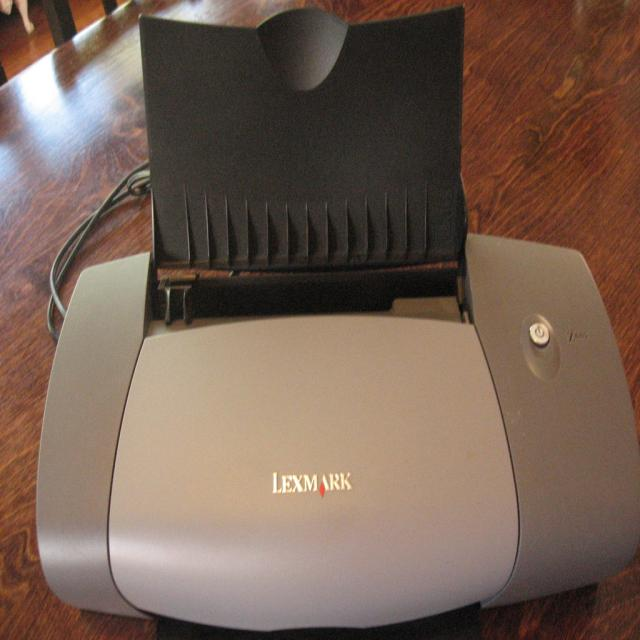printer: (39, 29, 621, 616)
